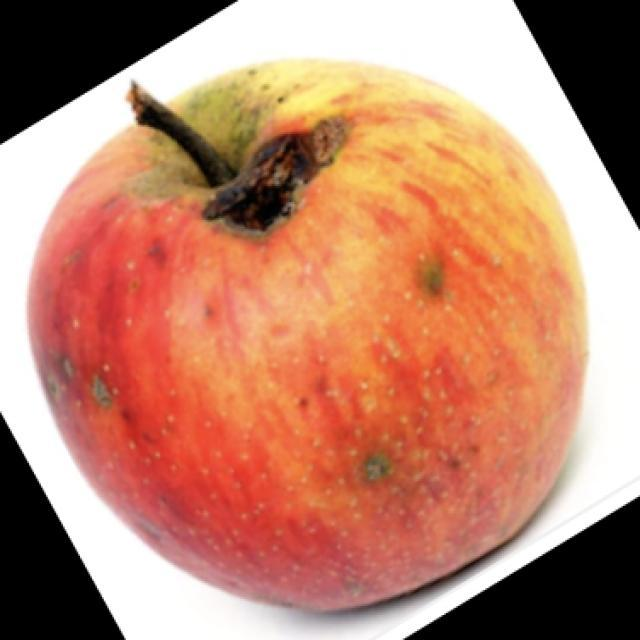Rotten: (48, 58, 590, 590)
